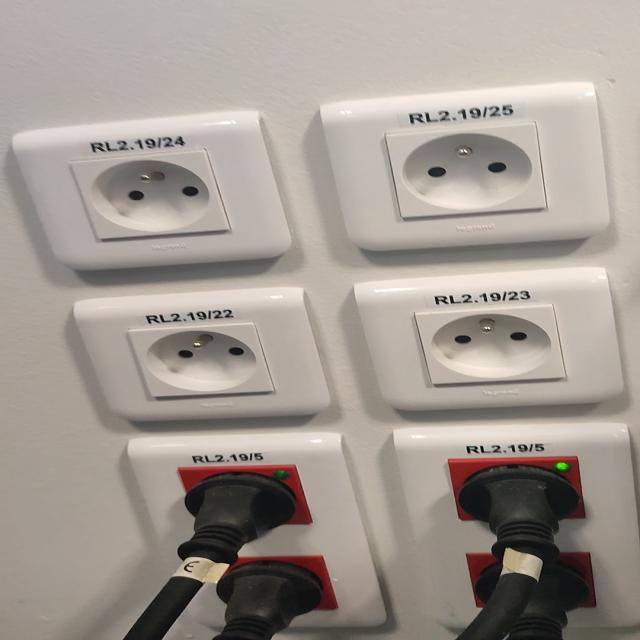house plug: (388, 123, 544, 219), (71, 152, 231, 241), (416, 306, 566, 384), (129, 324, 273, 398)
